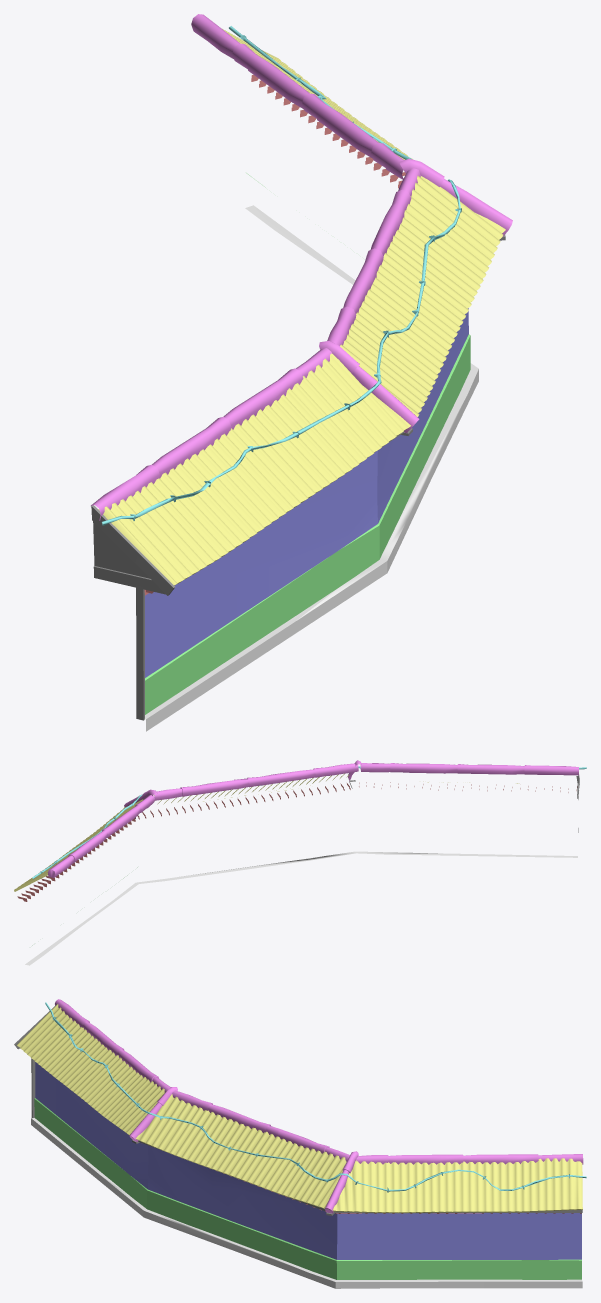
Rendered from SM_ENV_LKNVLD_Hokage_Gate_Wall_Lod3.gltf.
3 views of the same model, one above another, from view 1: azimuth 30°, elevation 25°; view 2: azimuth 150°, elevation 25°; view 3: azimuth 270°, elevation 25° (orthographic). The views are drawn at different scales.
Visible parts, largest first — view 1: SM_ENV_LKNVLD_Hokage_Gate_Wall_Lod3; view 2: SM_ENV_LKNVLD_Hokage_Gate_Wall_Lod3; view 3: SM_ENV_LKNVLD_Hokage_Gate_Wall_Lod3.
Part boxes in pixels (box(x1,y1,x2,y2)): SM_ENV_LKNVLD_Hokage_Gate_Wall_Lod3: box(91, 14, 512, 731); SM_ENV_LKNVLD_Hokage_Gate_Wall_Lod3: box(14, 760, 586, 965); SM_ENV_LKNVLD_Hokage_Gate_Wall_Lod3: box(14, 999, 586, 1288).
Size of the model in its own units: 18.99 by 6.07 by 25.6.
